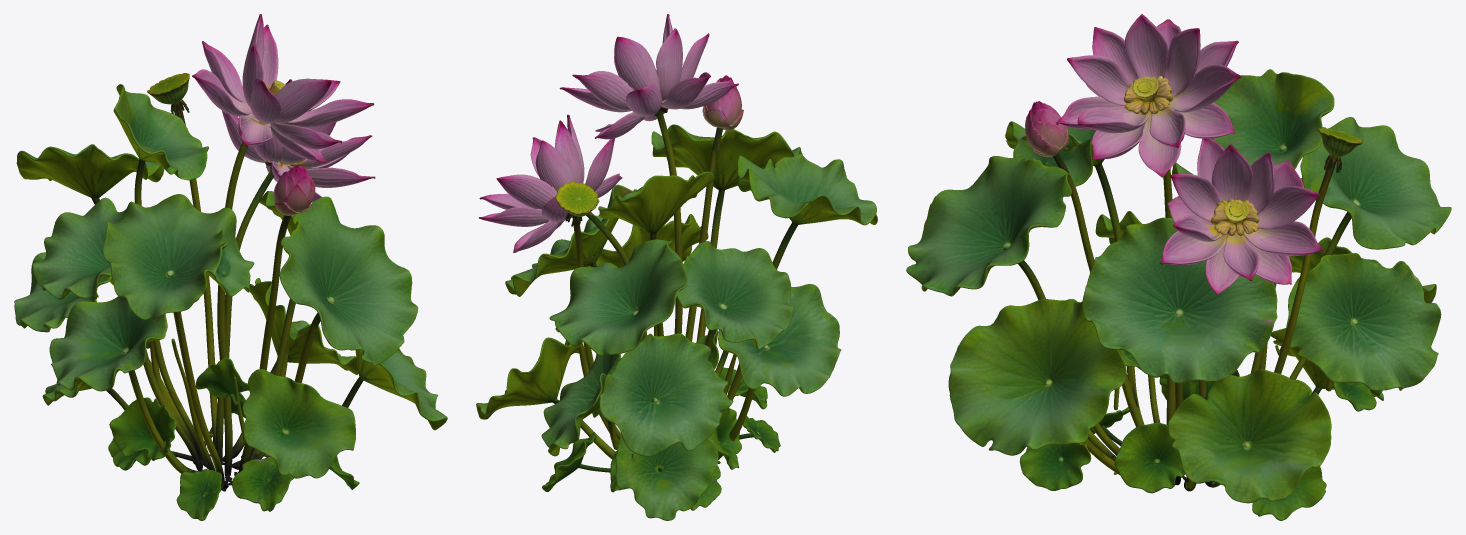
The model's file is 1794249128033_CCT2.glb.
3 views of the same model, side by side, from view 1: azimuth 30°, elevation 25°; view 2: azimuth 150°, elevation 25°; view 3: azimuth 270°, elevation 25° (orthographic). The views are drawn at different scales.
Visible parts, largest first — view 1: tripo_node_ecfad411-4772-4577-8fac-8855012c2e7f; view 2: tripo_node_ecfad411-4772-4577-8fac-8855012c2e7f; view 3: tripo_node_ecfad411-4772-4577-8fac-8855012c2e7f.
Boxes of the visible parts, left/top/right/bottom form: tripo_node_ecfad411-4772-4577-8fac-8855012c2e7f: left=14, top=14, right=447, bottom=520; tripo_node_ecfad411-4772-4577-8fac-8855012c2e7f: left=476, top=14, right=877, bottom=520; tripo_node_ecfad411-4772-4577-8fac-8855012c2e7f: left=906, top=14, right=1451, bottom=520.
Bounding box in the file's own units: 0.7279 × 0.9438 × 0.9815.
1 material, 1 textured.
